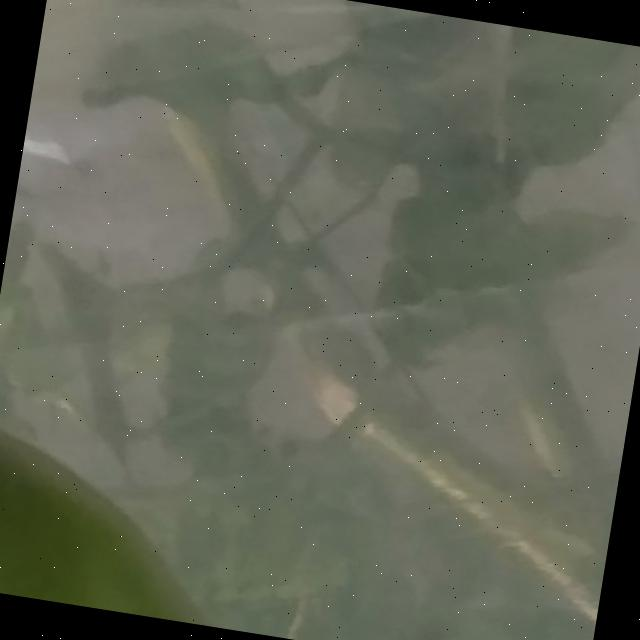tomato: (194, 0, 640, 640), (0, 369, 601, 640)
